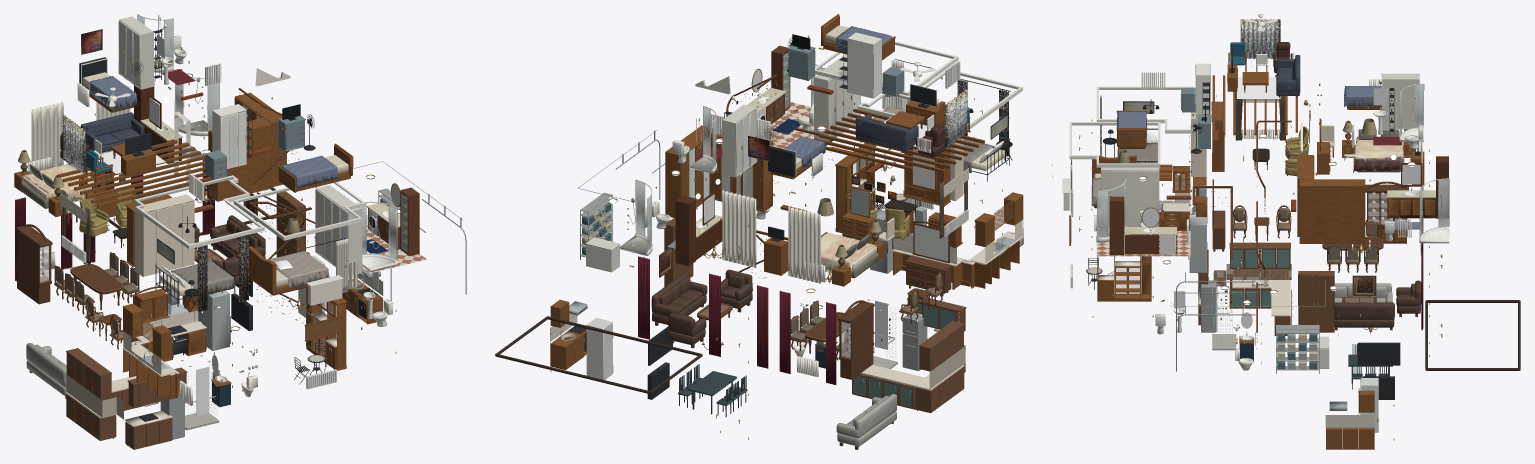
Rendered from INTERIOR-2-opt-v2.glb.
The picture shows the model from 3 angles, left to right: view 1: azimuth 30°, elevation 25°; view 2: azimuth 150°, elevation 25°; view 3: azimuth 270°, elevation 25°; orthographic projection. The views are drawn at different scales.
Parts seen in each view (by area): view 1: wood_honey (2), white_trim (2), antique_wood (2), R31 | R33 garden kitchen walnut, linen, R31 | R33 ivory wardrobe lacquer, Ivory kitchen countertop, Completion | Dark satin metal, chrome (2), Room pass | Quilted bedspread, Room pass | Quilted bedspread -3, curtain_sheer (+33 smaller); view 2: wood_honey (2), white_trim (2), burgundy_velvet, curtain_sheer, antique_wood (2), R31 | R33 ivory wardrobe lacquer, R31 | R33 garden kitchen walnut, leather_brown, Completion | Dark satin metal, Ivory kitchen countertop, R31 | R33 antique nook walnut, Bathroom dark walnut (+38 smaller); view 3: wood_honey (2), R31 | R33 ivory wardrobe lacquer, white_trim (2), antique_wood (2), leather_brown, R31 | R35 garage oak storage, Completion | Dark satin metal, Ivory kitchen countertop, chrome (2), R31 | Bathroom walnut, R31 | R33 garden kitchen walnut, R31 | R33 warm porcelain (+36 smaller).
Boxes of the visible parts, x1,y1,x2,y2 form: wood_honey (2): (14, 84, 382, 399); white_trim (2): (61, 58, 365, 289); antique_wood (2): (15, 88, 315, 398); R31 | R33 garden kitchen walnut: (66, 348, 187, 449); linen: (22, 72, 348, 296); R31 | R33 ivory wardrobe lacquer: (118, 16, 362, 275); Ivory kitchen countertop: (66, 305, 336, 426); Completion | Dark satin metal: (79, 28, 377, 421); chrome (2): (141, 77, 380, 424); Room pass | Quilted bedspread: (171, 251, 329, 298); Room pass | Quilted bedspread -3: (88, 76, 337, 189); curtain_sheer: (31, 86, 130, 167); wood_honey (2): (550, 14, 1023, 369); white_trim (2): (711, 32, 1022, 236); burgundy_velvet: (638, 256, 836, 384); curtain_sheer: (722, 190, 820, 283); antique_wood (2): (655, 74, 893, 449); R31 | R33 ivory wardrobe lacquer: (722, 54, 860, 177); R31 | R33 garden kitchen walnut: (852, 297, 966, 413); leather_brown: (651, 269, 752, 345); Completion | Dark satin metal: (568, 39, 936, 399); Ivory kitchen countertop: (852, 178, 1023, 390); R31 | R33 antique nook walnut: (899, 221, 952, 323); Bathroom dark walnut: (675, 191, 722, 265); wood_honey (2): (1092, 52, 1434, 449); R31 | R33 ivory wardrobe lacquer: (1101, 73, 1419, 227); white_trim (2): (1062, 14, 1354, 216); antique_wood (2): (1192, 120, 1417, 332); leather_brown: (1334, 280, 1421, 327); R31 | R35 garage oak storage: (1298, 271, 1334, 332); Completion | Dark satin metal: (1191, 48, 1418, 399); Ivory kitchen countertop: (1098, 193, 1290, 316); chrome (2): (1159, 86, 1442, 410); R31 | Bathroom walnut: (1109, 196, 1176, 254); R31 | R33 garden kitchen walnut: (1198, 242, 1291, 335); R31 | R33 warm porcelain: (1155, 110, 1449, 334).
Size of the model in its own units: 13.27 by 12.15 by 17.17.
Materials: 129 (21 with a texture image).
